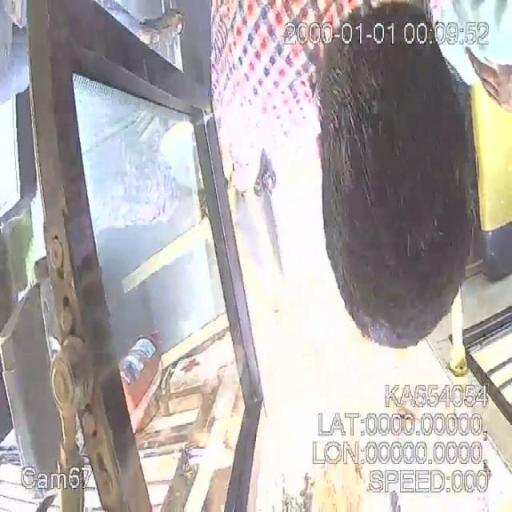persona: (212, 2, 482, 360)
